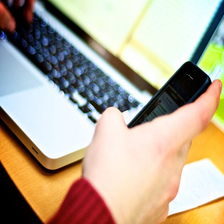laptop: (1, 1, 208, 185)
